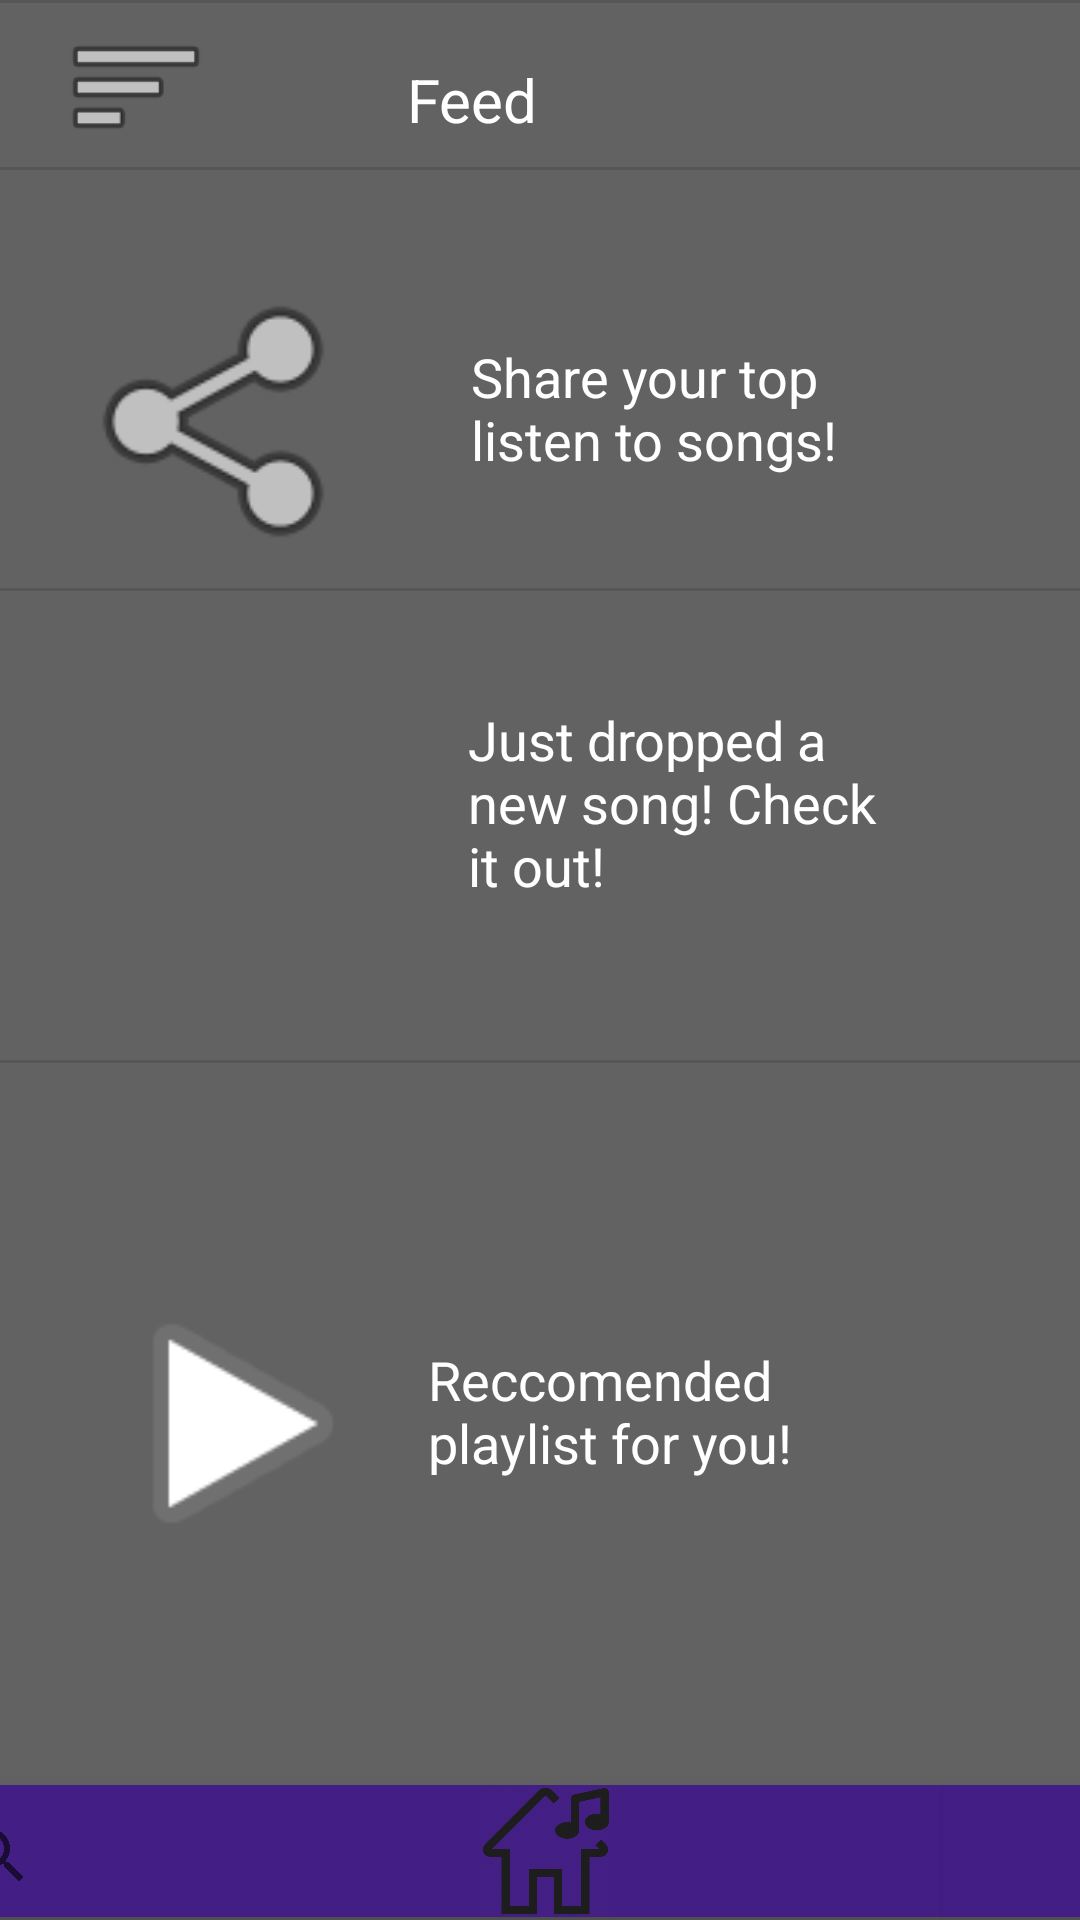

Locate icon controls on the screen. Image size 1080 × 1920, boxes as region(x1, y1, x2, y2).
home: region(483, 1788, 609, 1914)
